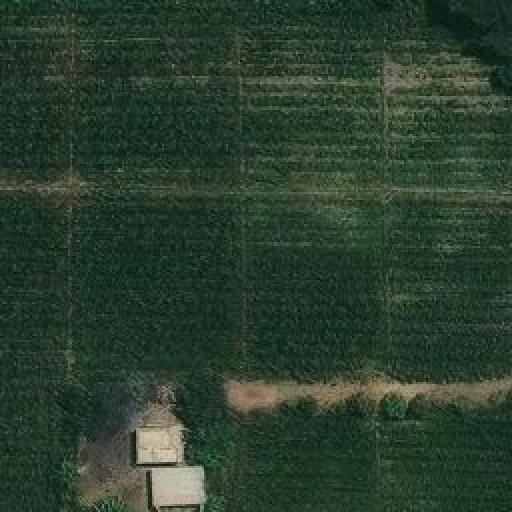manzanas: (127, 417, 212, 510)
